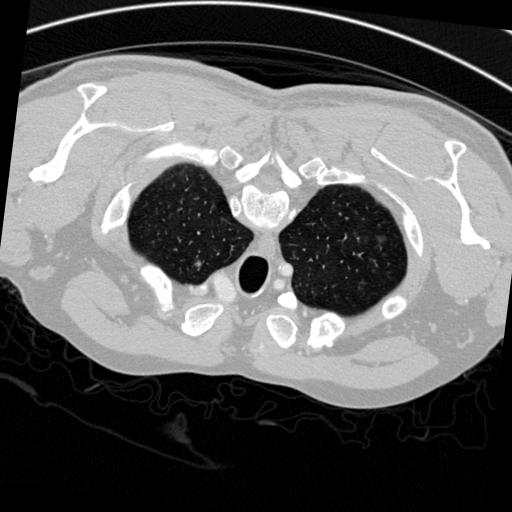nodule: (191, 259, 203, 271)
